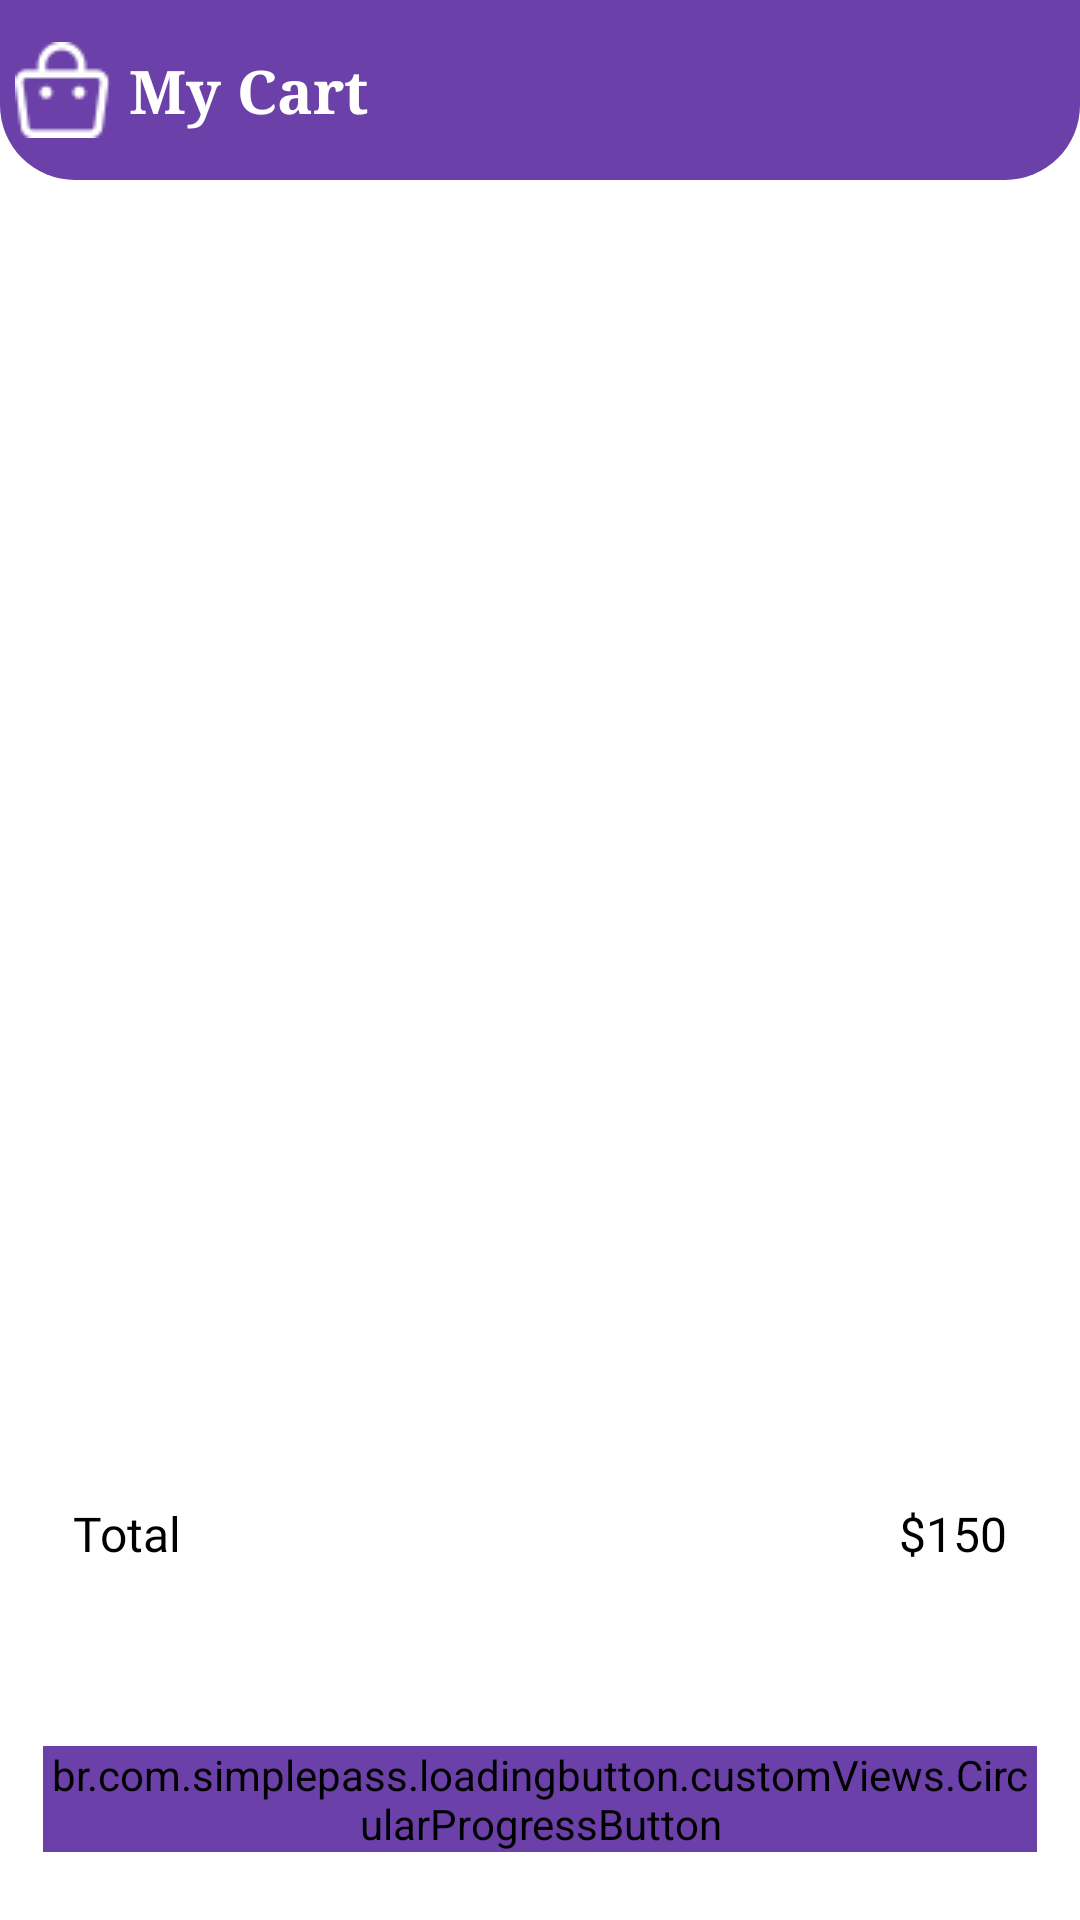

Screen size 1080px×1920px. Icon name, then its box in pixels as box=[x1, y1, x2, y2]:
shoppingbag: box=[15, 42, 109, 138]
